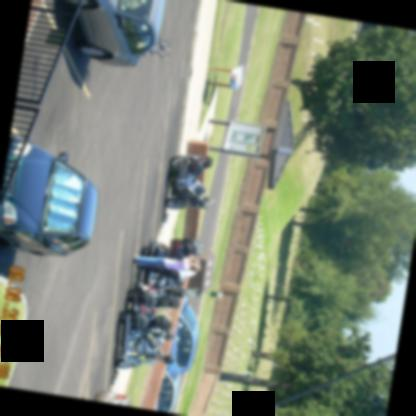backpack: (151, 315, 170, 330)
